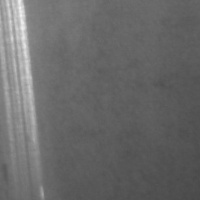scratches: (0, 12, 51, 199)
